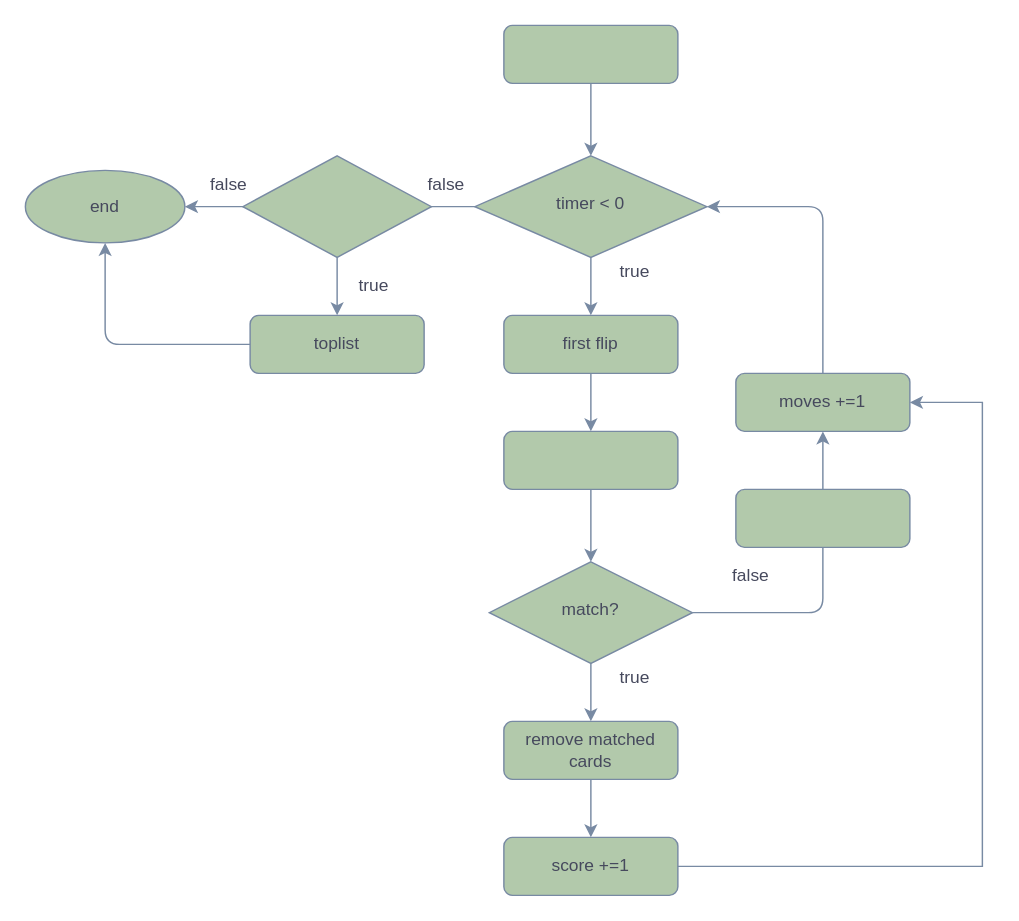
This 1019x921 diagram has some shape labels left out. The shapes that lost their labels are listed below. From the top down, each one's centre as x and y in pixels, then its label:
At (x=590, y=53): "start".
At (x=336, y=205): "higher score".
At (x=590, y=459): "second flip".
At (x=822, y=517): "flip card back".
